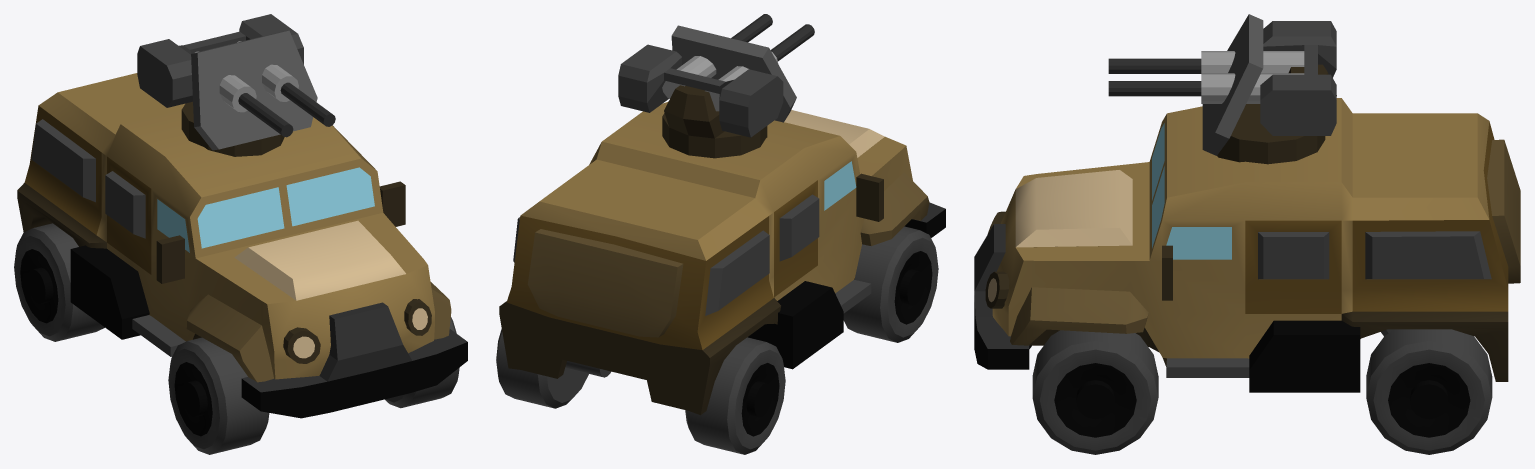
Rendered from Jeep 3.fbx.
3 renders of one model, left to right at view 1: azimuth 30°, elevation 25°; view 2: azimuth 150°, elevation 25°; view 3: azimuth 270°, elevation 25°, orthographic. The views are drawn at different scales.
Parts seen in each view (by area): view 1: Cube.413, Cube.416, Plane.072, Cylinder.620, Cylinder.621, Cube.414, Cube.415, Cylinder.457, Cube.533, Cylinder.458, Cylinder.456, Cylinder.609; view 2: Cube.413, Cylinder.620, Cylinder.621, Cube.415, Cube.414, Cylinder.456, Plane.072, Cylinder.610, Cylinder.457, Cube.533, Cube.416; view 3: Cube.413, Cylinder.610, Cylinder.609, Cube.414, Cube.415, Cylinder.457, Plane.072, Cube.416, Cylinder.456, Cylinder.458, Cube.533.
Boxes of the visible parts, left/top/right/bottom form: Cube.413: left=17, top=73, right=451, bottom=382; Cube.416: left=241, top=302, right=467, bottom=418; Plane.072: left=191, top=30, right=317, bottom=150; Cylinder.620: left=168, top=337, right=269, bottom=454; Cylinder.621: left=14, top=223, right=104, bottom=341; Cube.414: left=70, top=245, right=149, bottom=339; Cube.415: left=137, top=14, right=303, bottom=107; Cylinder.457: left=195, top=41, right=335, bottom=137; Cube.533: left=156, top=181, right=405, bottom=283; Cylinder.458: left=283, top=299, right=431, bottom=363; Cylinder.456: left=181, top=101, right=284, bottom=156; Cylinder.609: left=385, top=317, right=459, bottom=408; Cube.413: left=499, top=102, right=929, bottom=415; Cylinder.620: left=843, top=226, right=938, bottom=342; Cylinder.621: left=685, top=337, right=785, bottom=454; Cube.415: left=618, top=44, right=783, bottom=137; Cube.414: left=747, top=281, right=843, bottom=369; Cylinder.456: left=662, top=85, right=767, bottom=158; Plane.072: left=671, top=25, right=796, bottom=122; Cylinder.610: left=496, top=329, right=610, bottom=408; Cylinder.457: left=662, top=14, right=814, bottom=111; Cube.533: left=856, top=173, right=883, bottom=221; Cube.416: left=904, top=202, right=945, bottom=237; Cube.413: left=992, top=98, right=1520, bottom=381; Cylinder.610: left=1366, top=329, right=1492, bottom=454; Cylinder.609: left=1032, top=330, right=1158, bottom=454; Cube.414: left=1249, top=320, right=1360, bottom=392; Cube.415: left=1260, top=21, right=1336, bottom=135; Cylinder.457: left=1108, top=51, right=1304, bottom=103; Plane.072: left=1202, top=14, right=1263, bottom=155; Cube.416: left=974, top=224, right=1031, bottom=369; Cylinder.456: left=1217, top=64, right=1336, bottom=164; Cylinder.458: left=985, top=211, right=1009, bottom=308; Cube.533: left=1162, top=245, right=1172, bottom=300.
Size of the model in its own units: 668 by 850 by 1183.
